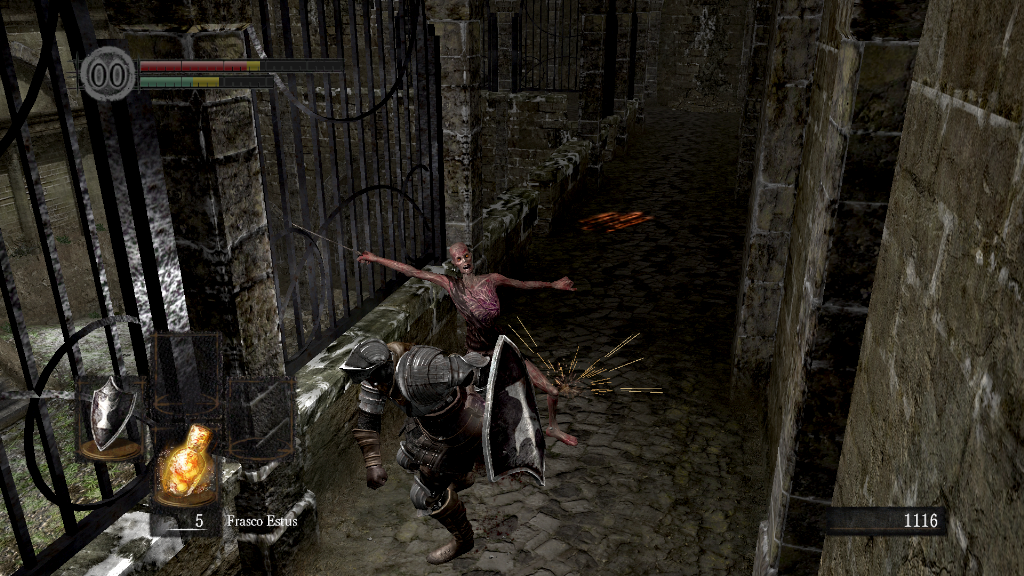health: (138, 58, 343, 71)
hollow: (357, 243, 577, 449)
humanity: (80, 45, 136, 102)
player: (340, 333, 549, 564)
souls: (825, 506, 945, 536)
stamina: (138, 74, 274, 88)
